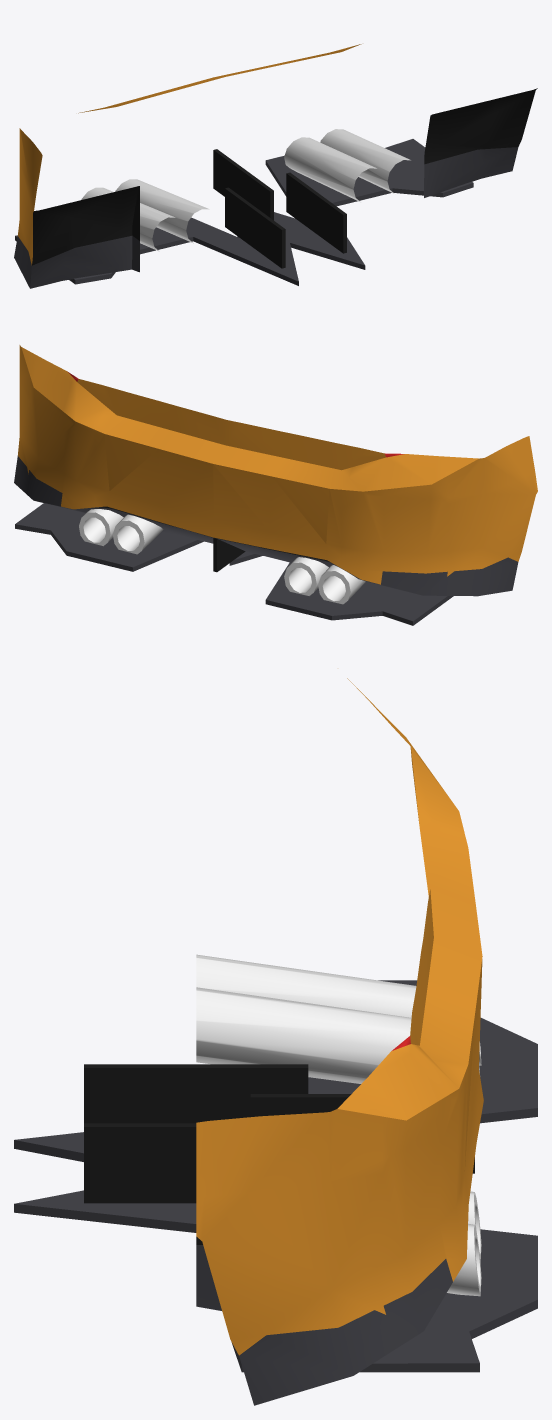
Rendered from protoHatch_rearBumper_kurogane.glb.
The picture shows the model from 3 angles, top to bottom: view 1: azimuth 30°, elevation 25°; view 2: azimuth 150°, elevation 25°; view 3: azimuth 270°, elevation 25°; orthographic projection. The views are drawn at different scales.
Parts seen in each view (by area): view 1: rearBumper_kurogane; view 2: rearBumper_kurogane; view 3: rearBumper_kurogane.
Part boxes in pixels (bbox=[...]): rearBumper_kurogane: bbox=[14, 44, 537, 288]; rearBumper_kurogane: bbox=[14, 345, 537, 625]; rearBumper_kurogane: bbox=[14, 678, 537, 1405].
Bounding box in the file's own units: 1.64 × 0.4602 × 0.7476.
